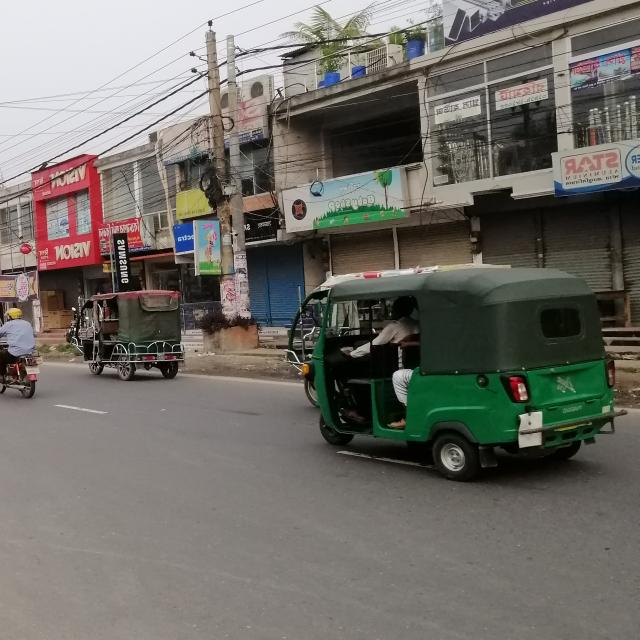CNG: (295, 252, 631, 487)
Easybike: (65, 281, 193, 395)
Motorbike: (1, 343, 55, 401)
